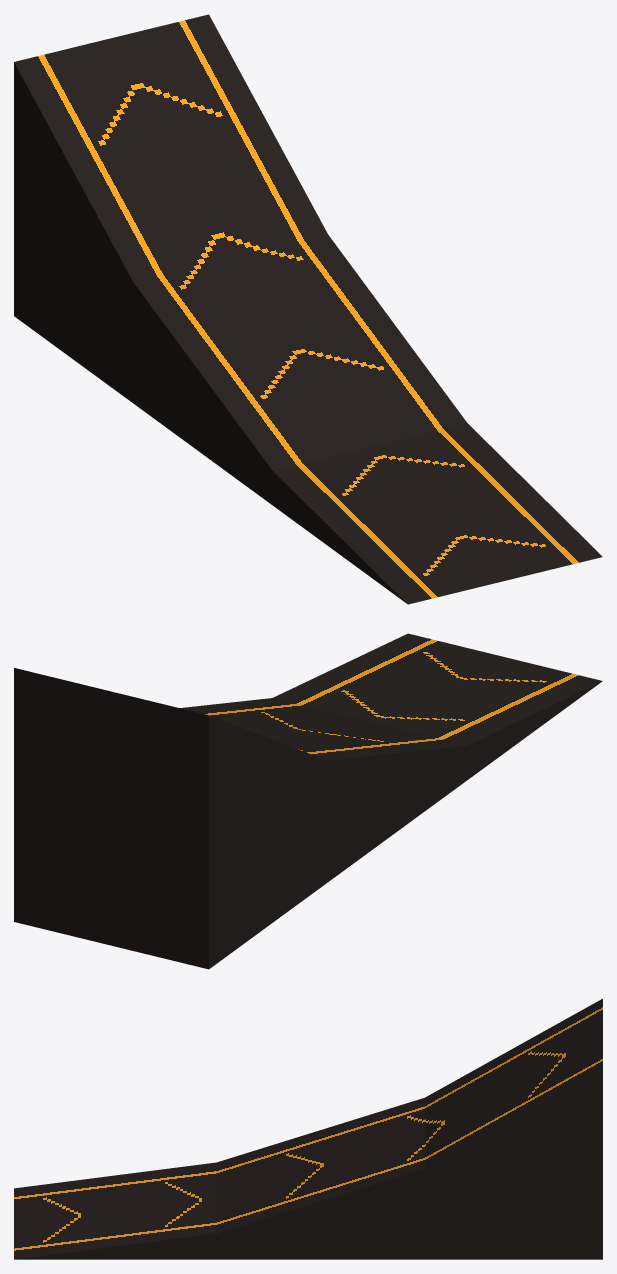
The model's file is ramp.glb.
3 renders of one model, top to bottom at view 1: azimuth 30°, elevation 25°; view 2: azimuth 150°, elevation 25°; view 3: azimuth 270°, elevation 25°, orthographic. The views are drawn at different scales.
Visible parts, largest first — view 1: Ramp; view 2: Ramp; view 3: Ramp.
Boxes of the visible parts, x1,y1,x2,y2 form: Ramp: [14, 14, 602, 604]; Ramp: [14, 633, 602, 969]; Ramp: [14, 998, 602, 1259].
Bounding box in the file's own units: 4 × 4.98 × 14.
Materials: 1 (1 with a texture image).
